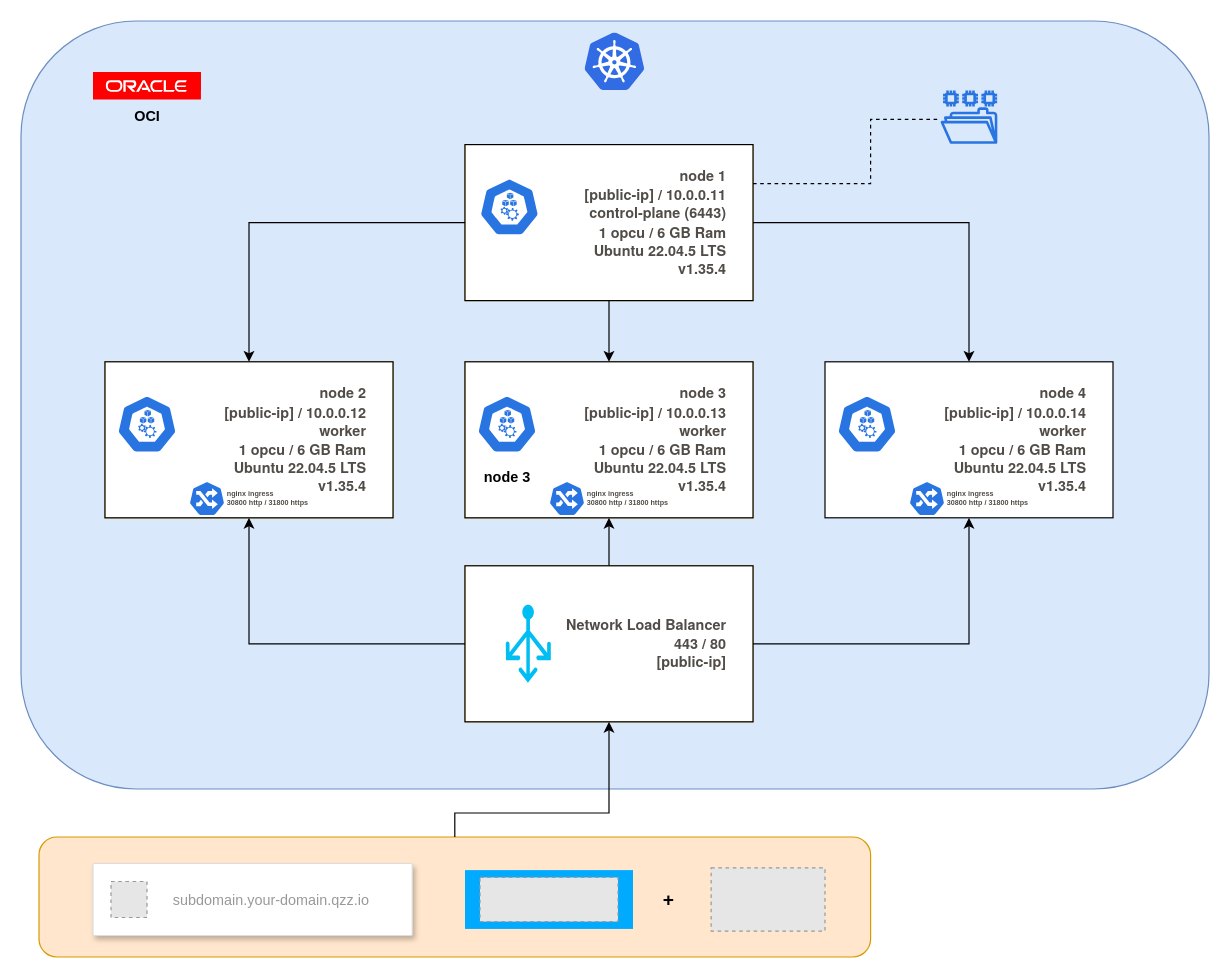
The diagram is 1230 pixels wide and 978 high, and some of its shapes have lost their labels. Grey dashed boxes stand in for pictures. Each missing label, with the centre of its shape:
"K8S" goes at pixel 614 61.
"NFS (PersistentVolume)" goes at pixel 968 116.
"node 1" goes at pixel 508 206.
"node 2" goes at pixel 146 424.
"node 4" goes at pixel 866 424.
